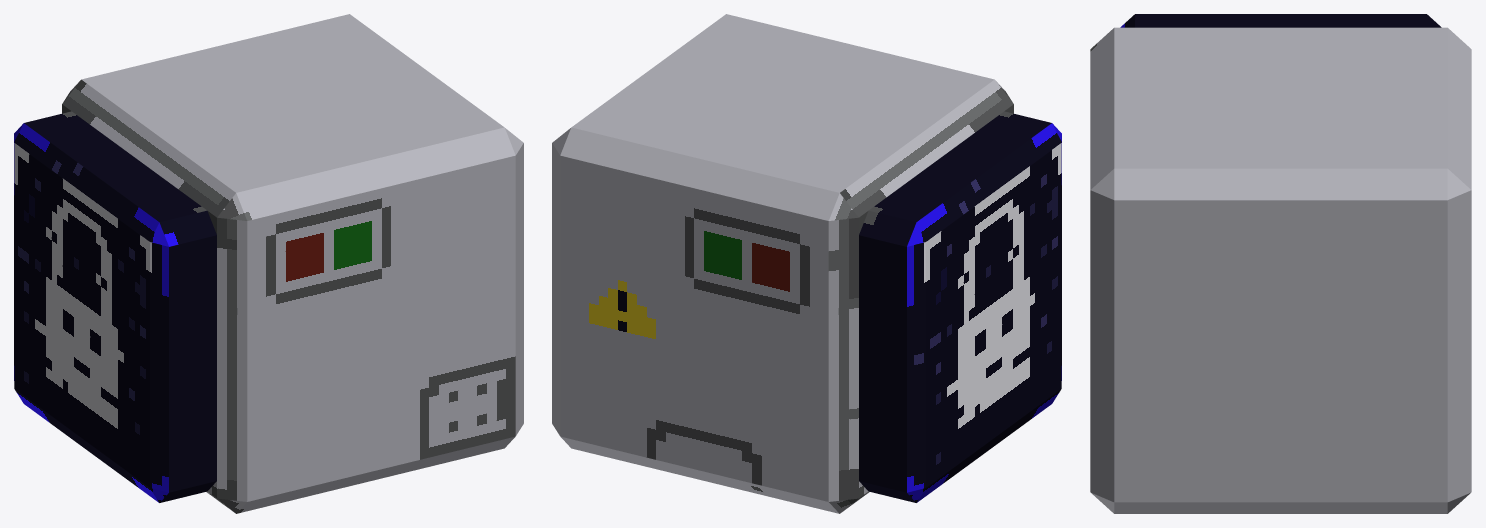
Rendered from face_id_lock.gltf.
3 renders of one model, left to right at view 1: azimuth 30°, elevation 25°; view 2: azimuth 150°, elevation 25°; view 3: azimuth 270°, elevation 25°, orthographic. The views are drawn at different scales.
Parts seen in each view (by area): view 1: body, face button; view 2: body, face button; view 3: body, face button.
Boxes of the visible parts, x1,y1,x2,y2 form: body: (62,14,523,513); face button: (14,111,216,502); body: (552,14,1013,513); face button: (859,111,1061,502); body: (1090,27,1471,513); face button: (1120,14,1441,27).
Bounding box in the file's own units: 1.19 × 1 × 1.
Materials: 2 (2 with a texture image).
